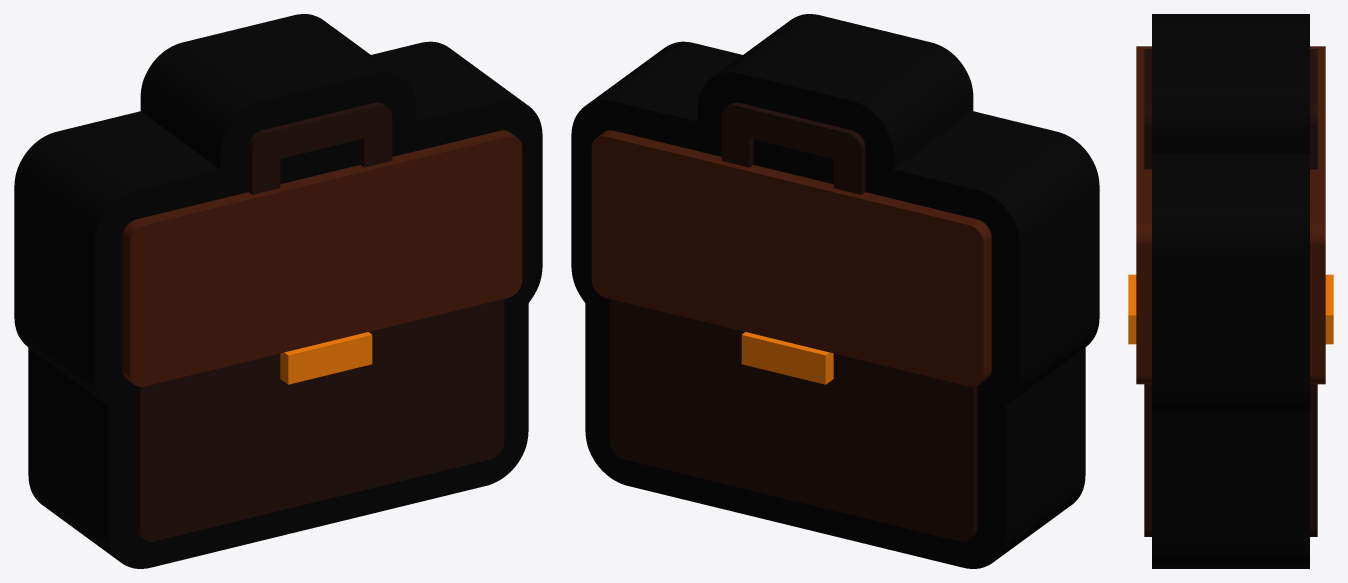
3 views of the same model, side by side, from view 1: azimuth 30°, elevation 25°; view 2: azimuth 150°, elevation 25°; view 3: azimuth 270°, elevation 25° (orthographic).
Visible parts, largest first — view 1: U+1F4BC_layer00_obj00, U+1F4BC_layer02_obj00, U+1F4BC_layer01_obj00, U+1F4BC_layer03_obj00; view 2: U+1F4BC_layer00_obj00, U+1F4BC_layer02_obj00, U+1F4BC_layer01_obj00, U+1F4BC_layer03_obj00; view 3: U+1F4BC_layer00_obj00, U+1F4BC_layer02_obj00, U+1F4BC_layer01_obj00, U+1F4BC_layer03_obj00.
Part boxes in pixels (left/top/right/bottom): U+1F4BC_layer00_obj00: left=14, top=14, right=542, bottom=568; U+1F4BC_layer02_obj00: left=122, top=130, right=522, bottom=386; U+1F4BC_layer01_obj00: left=136, top=102, right=504, bottom=541; U+1F4BC_layer03_obj00: left=280, top=332, right=372, bottom=384; U+1F4BC_layer00_obj00: left=571, top=14, right=1099, bottom=568; U+1F4BC_layer02_obj00: left=591, top=130, right=991, bottom=386; U+1F4BC_layer01_obj00: left=609, top=102, right=977, bottom=541; U+1F4BC_layer03_obj00: left=741, top=332, right=833, bottom=384; U+1F4BC_layer00_obj00: left=1152, top=14, right=1309, bottom=568; U+1F4BC_layer02_obj00: left=1136, top=46, right=1325, bottom=384; U+1F4BC_layer01_obj00: left=1144, top=49, right=1317, bottom=536; U+1F4BC_layer03_obj00: left=1128, top=274, right=1333, bottom=344.
Bounding box in the file's own units: 0.6491 × 0.6084 × 0.26.
